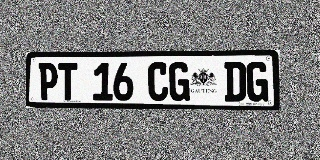1: (93, 62, 113, 101)
6: (113, 62, 133, 101)
C: (148, 62, 168, 101)
D: (224, 62, 246, 102)
G: (246, 62, 268, 102), (169, 62, 190, 101)
P: (39, 63, 58, 100)
T: (58, 63, 77, 100)
